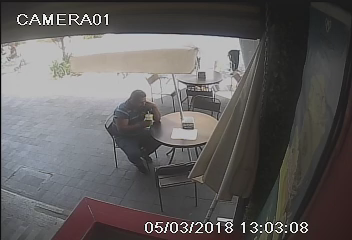libre: (172, 68, 236, 103)
ocupado: (106, 97, 235, 186)
